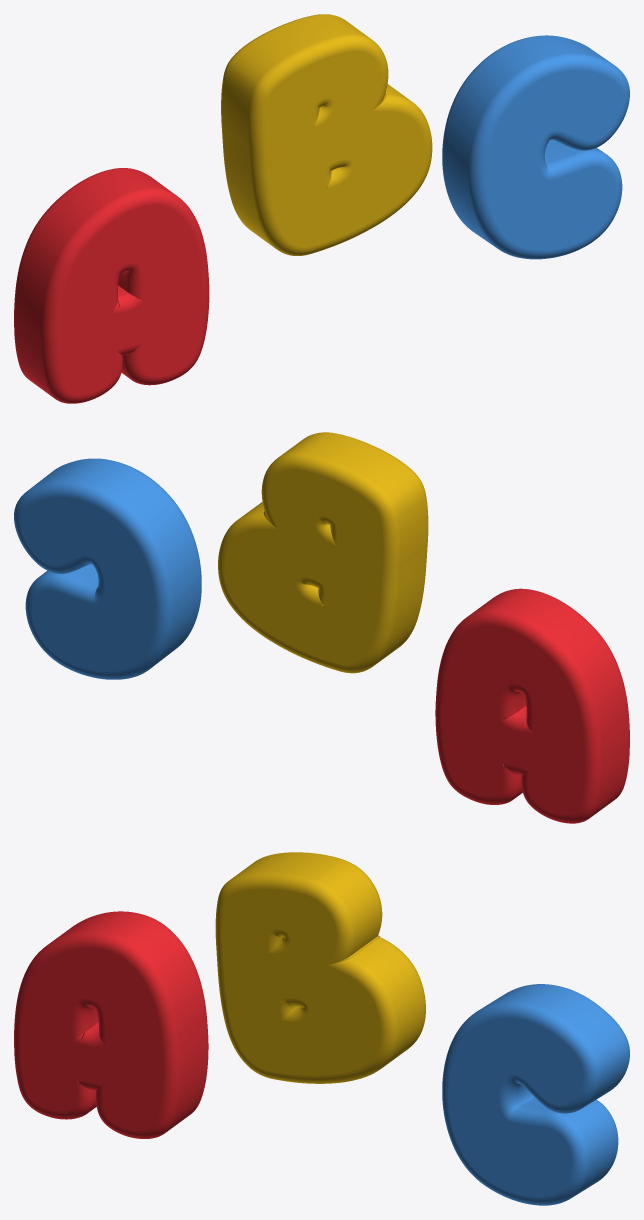
Rendered from abc.fbx.
3 renders of one model, top to bottom at view 1: azimuth 30°, elevation 25°; view 2: azimuth 150°, elevation 25°; view 3: azimuth 330°, elevation 25°, orthographic.
Visible parts, largest first — view 1: Letter_B, Letter_A, Letter_C; view 2: Letter_B, Letter_A, Letter_C; view 3: Letter_B, Letter_A, Letter_C.
Boxes of the visible parts, box(x1,y1,x2,y2) form: Letter_B: box(221, 14, 432, 255); Letter_A: box(14, 168, 209, 403); Letter_C: box(442, 35, 629, 259); Letter_B: box(218, 432, 428, 673); Letter_A: box(435, 588, 629, 823); Letter_C: box(14, 458, 201, 679); Letter_B: box(215, 852, 425, 1083); Letter_A: box(14, 911, 208, 1138); Letter_C: box(442, 984, 629, 1205).
Bounding box in the file's own units: 317 × 157 × 40.74.
